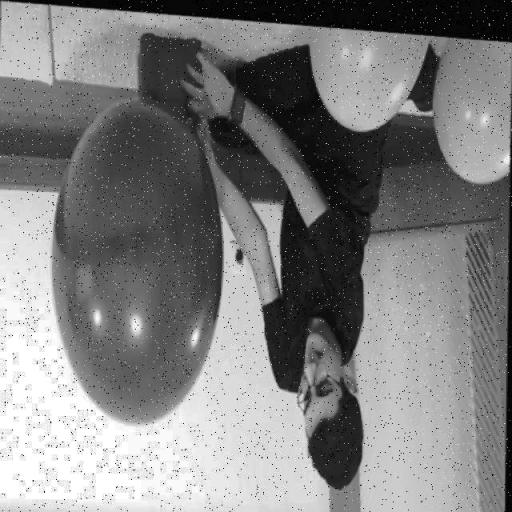balloon: (54, 92, 224, 429), (310, 20, 424, 126), (435, 28, 512, 177)
